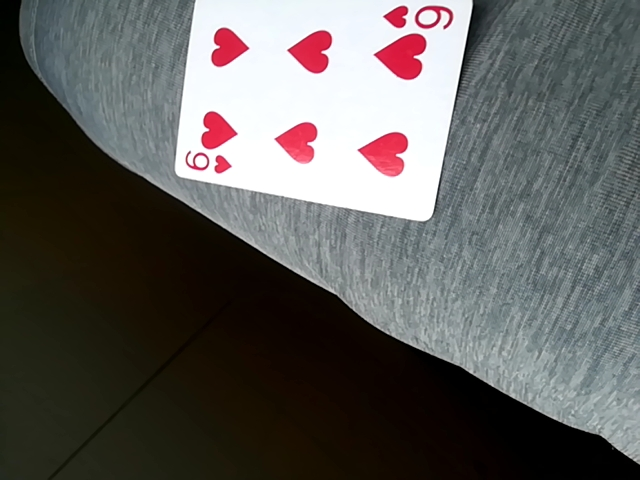hx 6: (174, 0, 468, 225)
